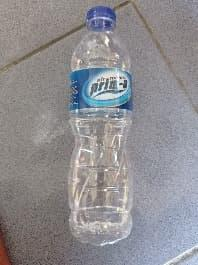Plastik: (71, 9, 132, 242)
